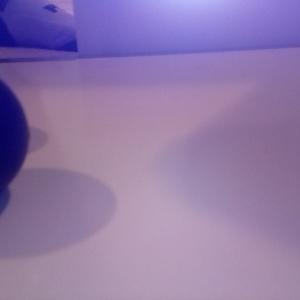dead_ball: (1, 78, 29, 188)
